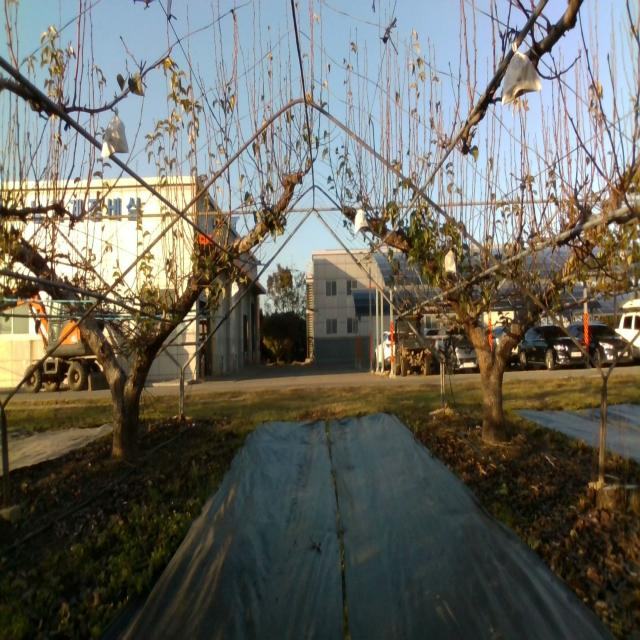pearbags: (501, 39, 544, 109), (100, 106, 130, 158), (354, 209, 370, 237), (444, 247, 457, 275)
